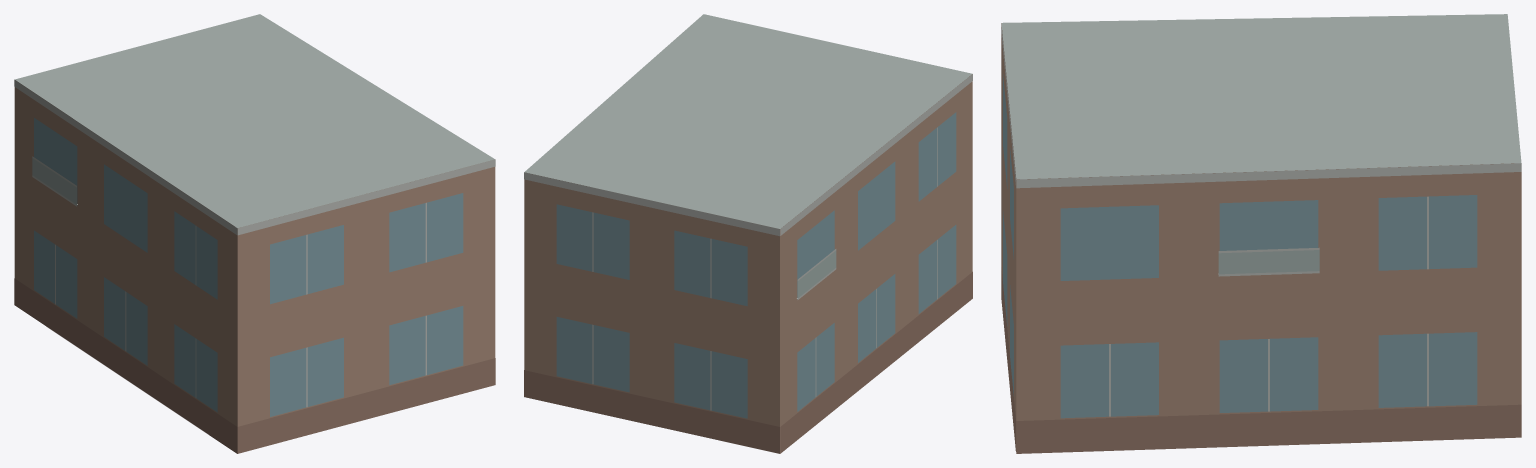
The model's file is survey-upis-32725046.glb.
The picture shows the model from 3 angles, left to right: view 1: azimuth 30°, elevation 25°; view 2: azimuth 150°, elevation 25°; view 3: azimuth 270°, elevation 25°; orthographic projection. The views are drawn at different scales.
Visible parts, largest first — view 1: survey-upis-32725046.tmp; view 2: survey-upis-32725046.tmp; view 3: survey-upis-32725046.tmp.
Boxes of the visible parts, x1=… form: survey-upis-32725046.tmp: x1=14, y1=14, x2=495, y2=453; survey-upis-32725046.tmp: x1=524, y1=14, x2=972, y2=453; survey-upis-32725046.tmp: x1=1001, y1=14, x2=1521, y2=453.
Size of the model in its own units: 9.84 by 7.6 by 13.07.
